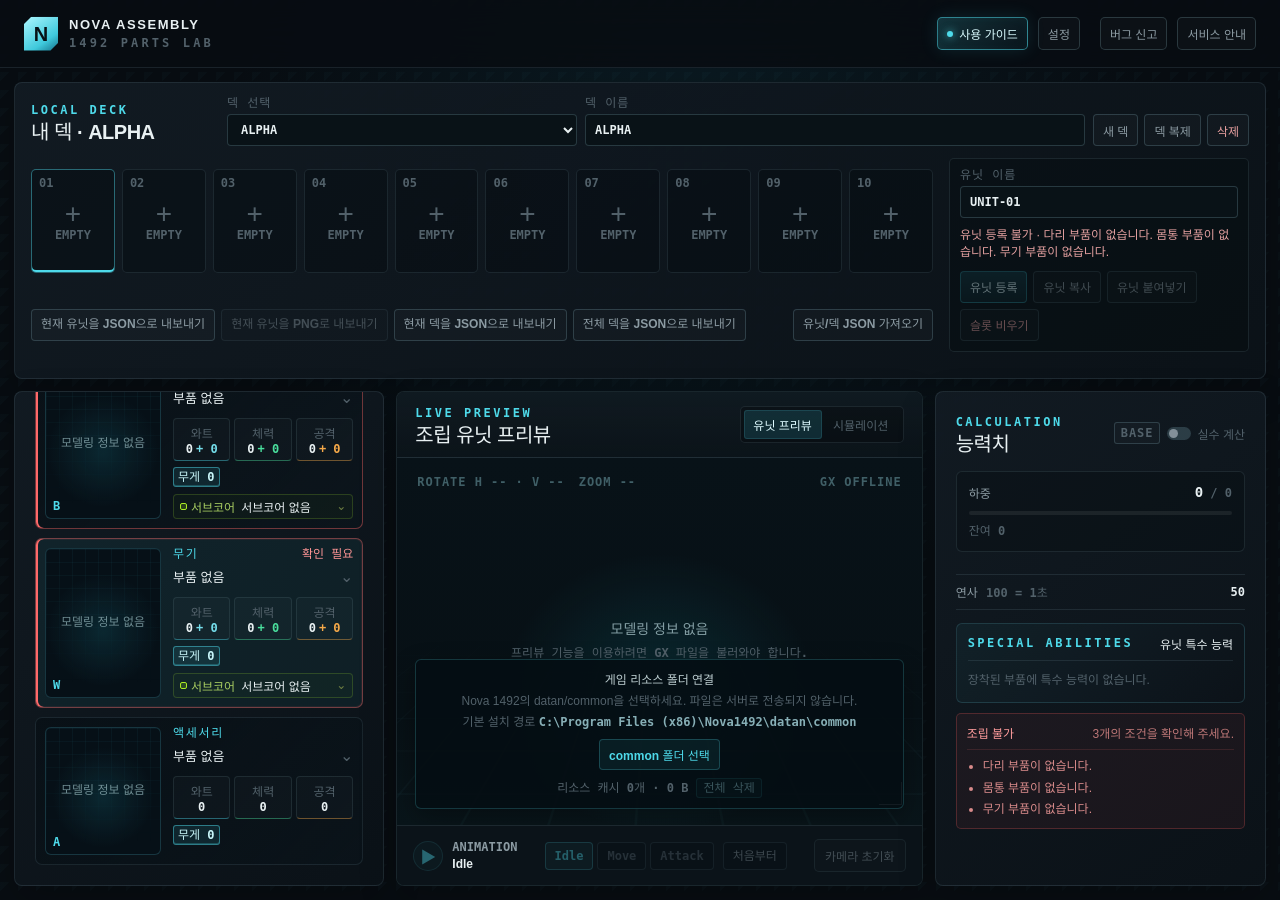
it: T09 부품 선택 및 강화 UI › 서브코어 선택 화면은 이름으로만 검색하고 ID를 표시하지 않는다
This screenshot has width=1280, height=900.
(page scrolled)
Step 1. Click the button with aria-label "무기 서브코어 변경" → point(263, 685), box x1=173 y1=673 x2=353 y2=698
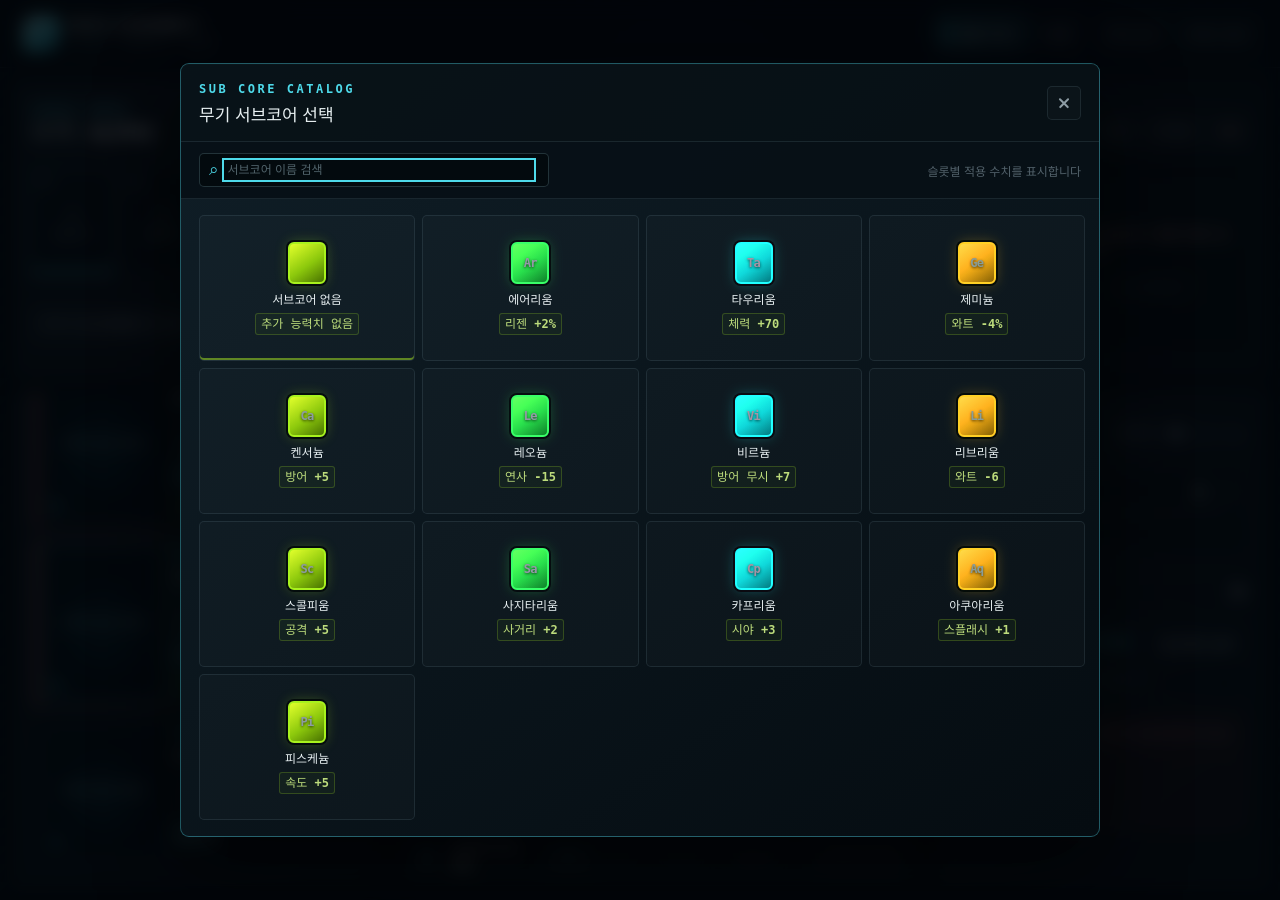
Check: the search field with placeholder "서브코어 이름 검색" is shown, box x1=226 y1=162 x2=532 y2=178
